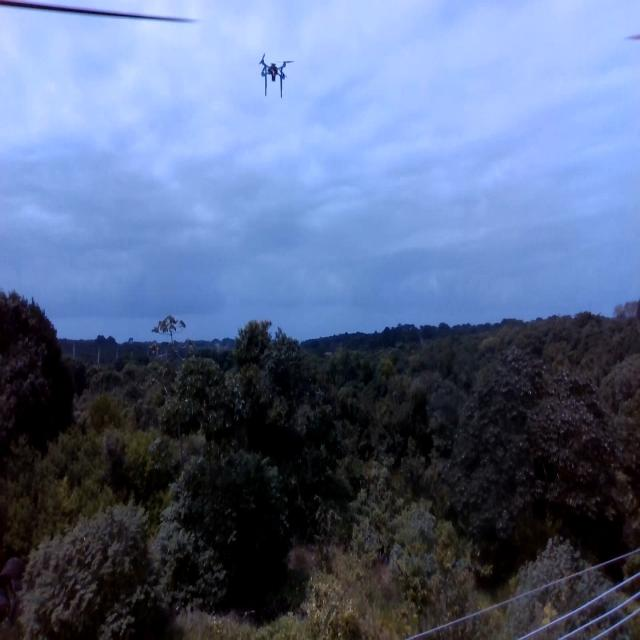-uav-: (256, 44, 295, 106)
